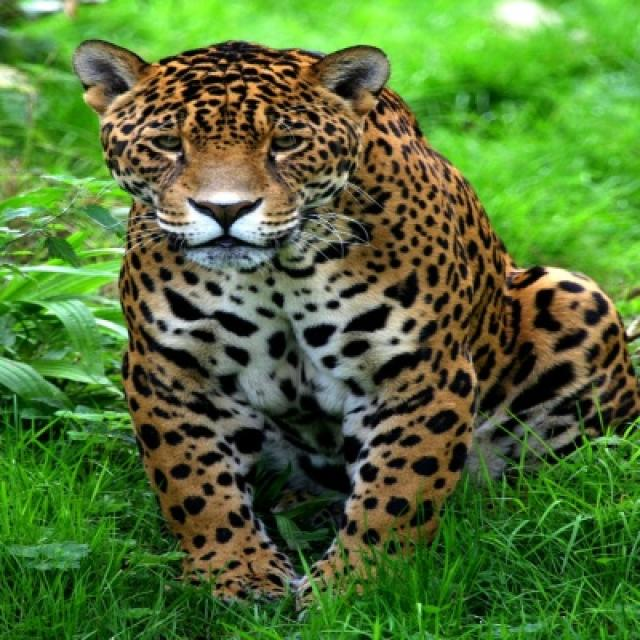Jaguar: (72, 38, 638, 614)
